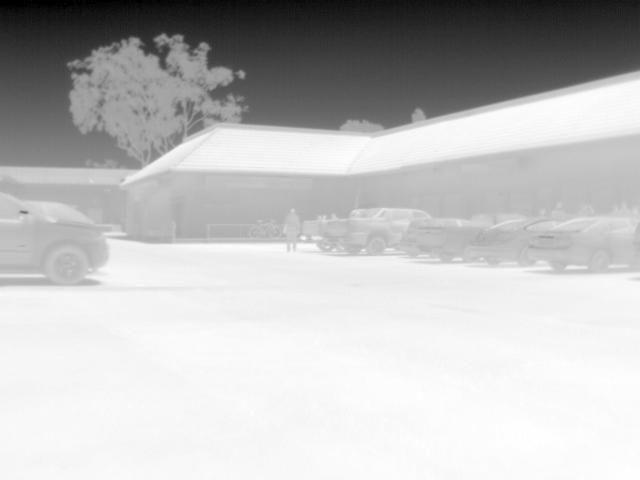car: (0, 188, 113, 288), (525, 216, 636, 271), (419, 211, 520, 261), (326, 206, 429, 254), (469, 218, 561, 267), (394, 217, 471, 257), (299, 208, 369, 251), (18, 198, 93, 226)
person: (282, 207, 303, 252), (549, 200, 564, 219), (537, 206, 547, 216), (328, 213, 338, 220), (322, 213, 329, 220)
